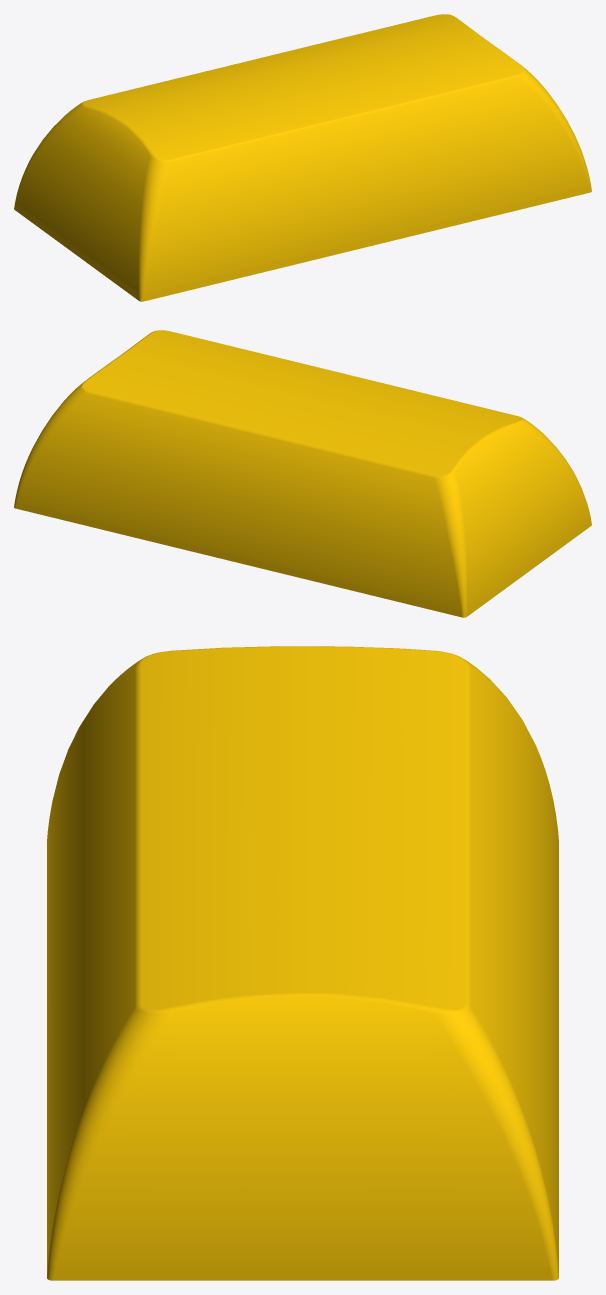
File: 2u_convex.glb
3 renders of one model, top to bottom at view 1: azimuth 30°, elevation 25°; view 2: azimuth 150°, elevation 25°; view 3: azimuth 270°, elevation 25°, orthographic. The views are drawn at different scales.
Visible parts, largest first — view 1: Body16; view 2: Body16; view 3: Body16.
Boxes of the visible parts, x1,y1,x2,y2 form: Body16: [14, 14, 591, 301]; Body16: [14, 330, 591, 617]; Body16: [47, 646, 558, 1280].
Size of the model in its own units: 37.27 by 9.46 by 18.27.
